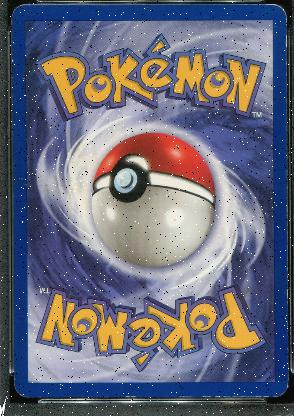Card: (9, 1, 291, 400)
Corner Wear: (10, 3, 38, 25), (264, 2, 287, 26), (270, 375, 288, 398)
Edge Wear: (14, 375, 30, 398), (284, 97, 287, 161), (283, 260, 287, 306), (198, 395, 267, 397), (284, 34, 287, 80), (285, 312, 287, 364), (284, 201, 287, 222), (124, 395, 150, 397), (10, 52, 13, 63), (178, 395, 194, 397), (95, 395, 108, 397), (37, 396, 43, 398)
Scratch: (270, 24, 276, 28), (17, 176, 23, 180), (22, 73, 25, 79), (22, 182, 26, 186), (11, 41, 16, 43), (274, 118, 279, 118)
